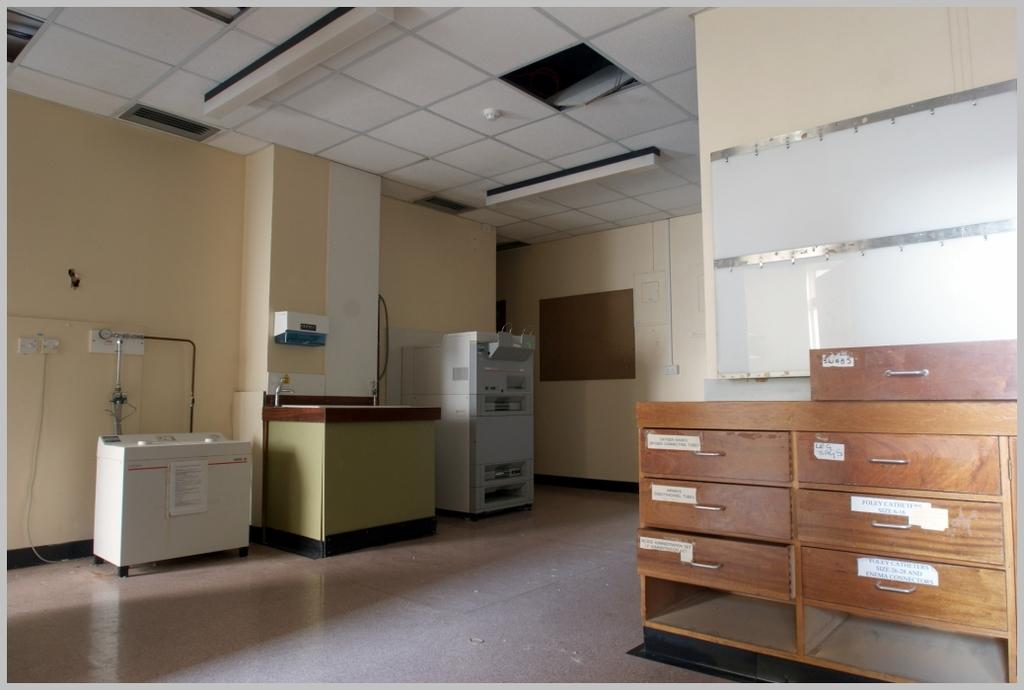cabinet_door: (826, 551, 1004, 617), (820, 490, 1002, 548), (806, 432, 1000, 483), (820, 354, 1021, 400), (646, 431, 792, 482), (652, 482, 786, 535), (649, 534, 779, 584)
handle: (684, 554, 732, 578), (877, 582, 923, 602), (876, 366, 930, 382), (868, 448, 909, 468), (687, 500, 729, 516), (687, 444, 731, 459), (874, 516, 914, 532)
